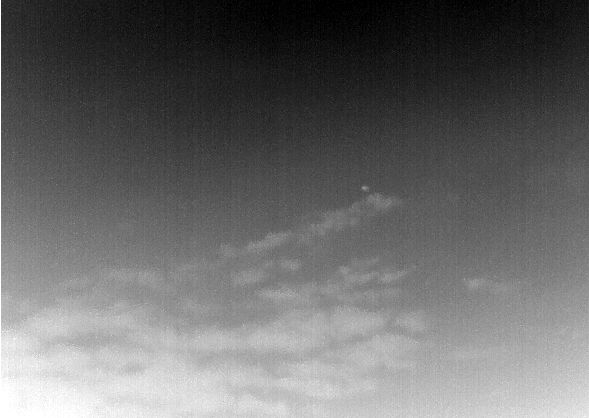dim target: (361, 185, 369, 191)
